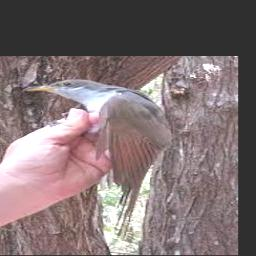Cuckoo: (24, 79, 172, 239)
